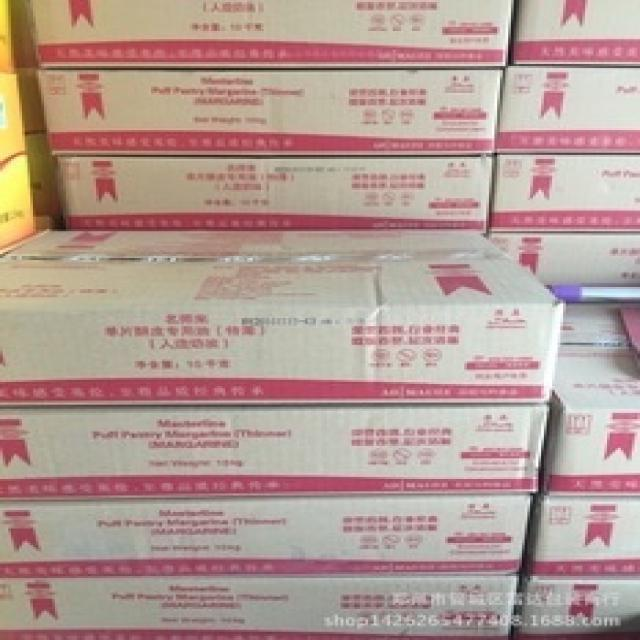box: (0, 226, 568, 407), (0, 406, 548, 500), (0, 495, 537, 578), (38, 68, 501, 153), (48, 152, 489, 229), (24, 1, 516, 67), (0, 577, 516, 637), (542, 345, 637, 495), (491, 68, 637, 154), (486, 155, 637, 233), (522, 495, 637, 579), (506, 1, 637, 66), (489, 233, 637, 285), (512, 578, 637, 636), (563, 303, 637, 345)
